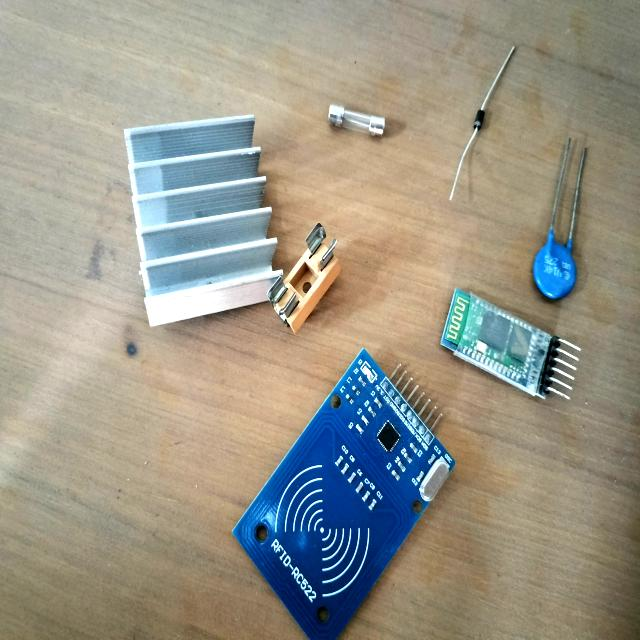capacitor: (533, 241, 576, 298)
